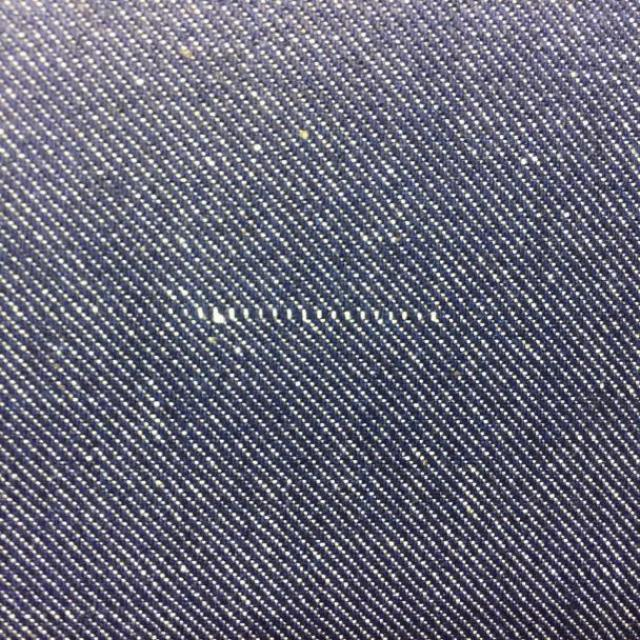Knot: (193, 306, 441, 325)
